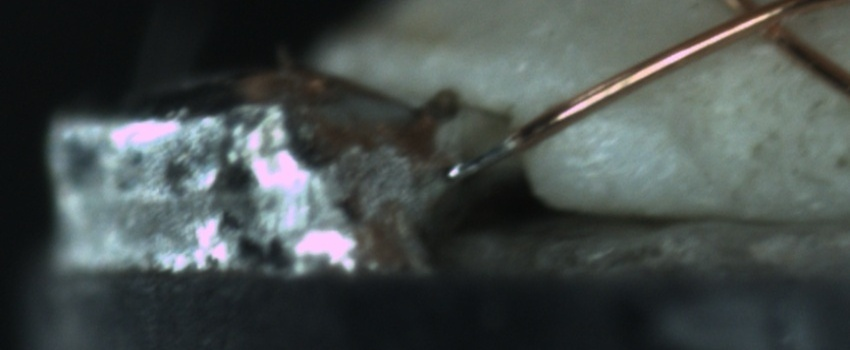CL: (701, 2, 814, 47)
TS: (444, 135, 514, 182)
